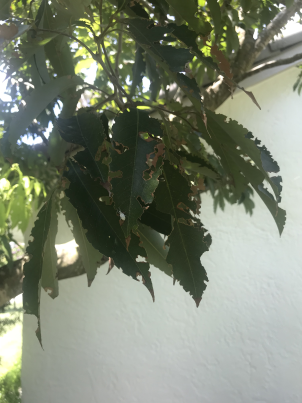weevil: (115, 207, 128, 223)
